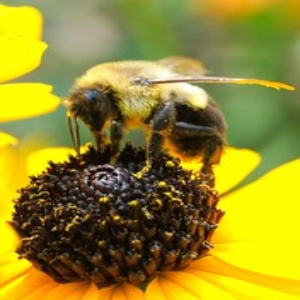bee: (65, 54, 298, 186)
